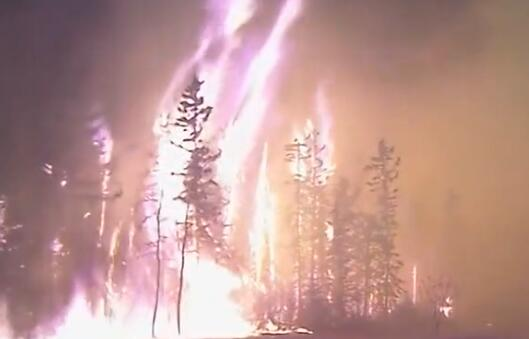fire: (0, 1, 334, 337)
